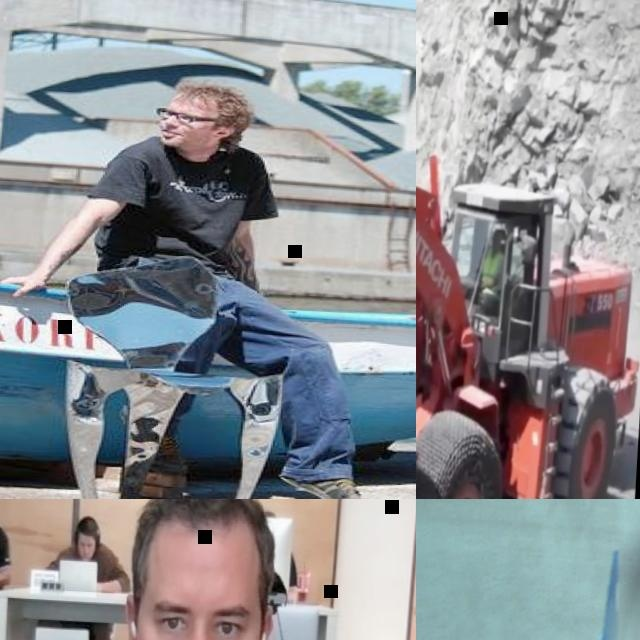Hardhat: (493, 228, 504, 240)
NO-Hardhat: (134, 499, 268, 565), (172, 83, 252, 116), (75, 515, 99, 534)
NO-Mask: (158, 123, 219, 149), (80, 545, 95, 558), (493, 244, 500, 254)
NO-Safety Vest: (107, 133, 264, 267), (69, 544, 112, 582)
Person: (0, 73, 403, 499), (0, 499, 414, 640), (37, 512, 134, 640), (260, 508, 305, 584), (478, 228, 508, 312)
Safety Cone: (592, 548, 629, 640)
Safety Vest: (482, 252, 503, 291)
machinery: (416, 70, 640, 499)
